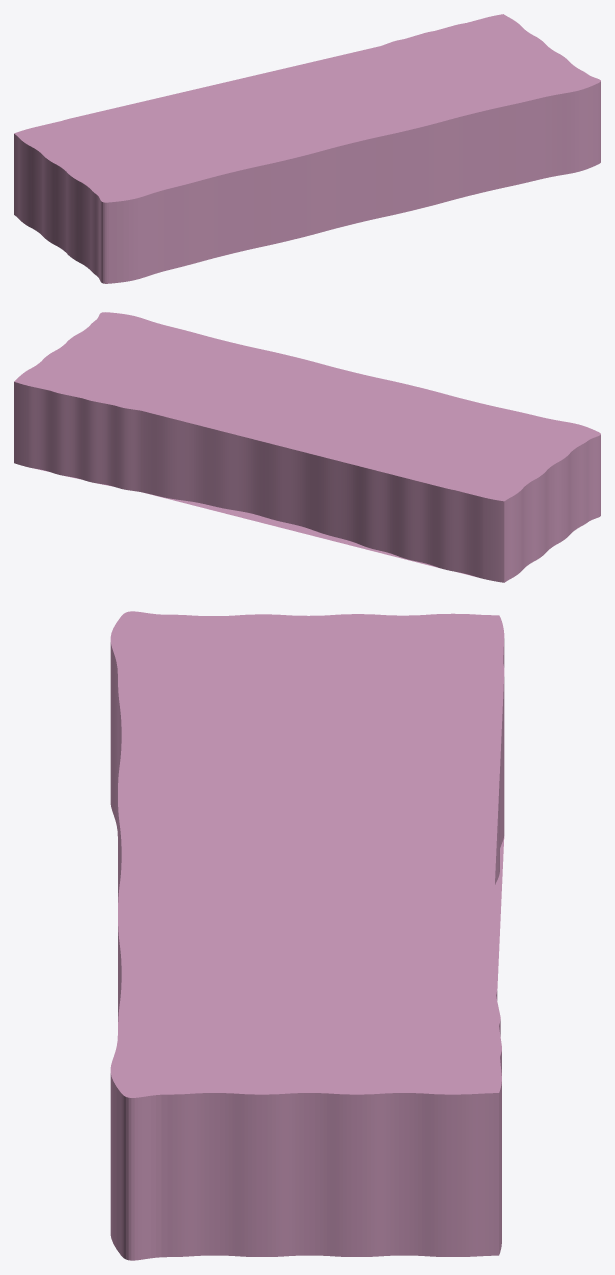
Rendered from ExportedBlenderFBXFile.fbx.
3 renders of one model, top to bottom at view 1: azimuth 30°, elevation 25°; view 2: azimuth 150°, elevation 25°; view 3: azimuth 270°, elevation 25°, orthographic. The views are drawn at different scales.
Parts seen in each view (by area): view 1: Curve_003; view 2: Curve_003; view 3: Curve_003.
Boxes of the visible parts, x1,y1,x2,y2 form: Curve_003: [14, 14, 600, 283]; Curve_003: [14, 312, 600, 582]; Curve_003: [110, 611, 504, 1260].
Bounding box in the file's own units: 0.3502 × 0.0547 × 0.1198.
